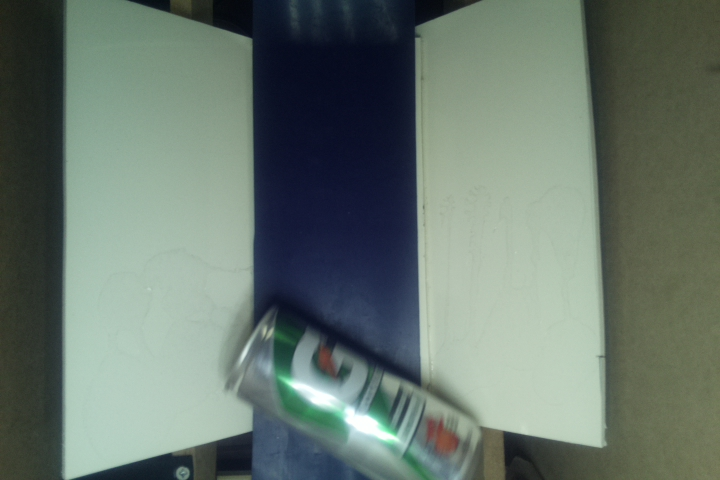can: (221, 303, 489, 480)
